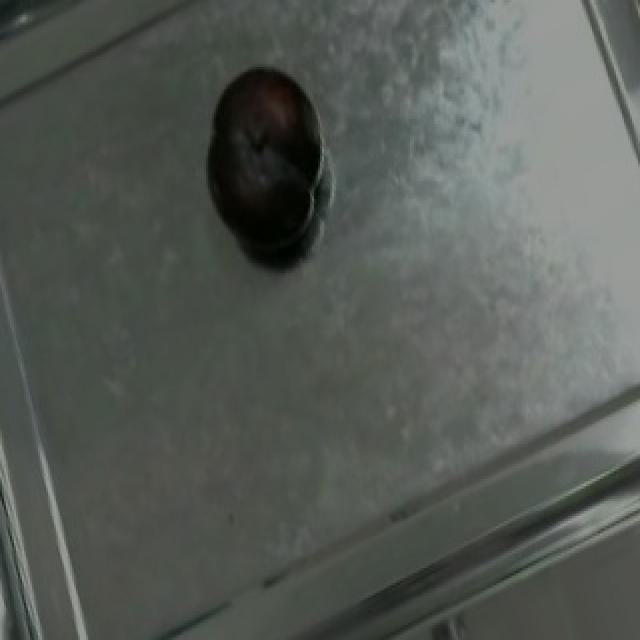Fruit: (186, 44, 334, 266)
